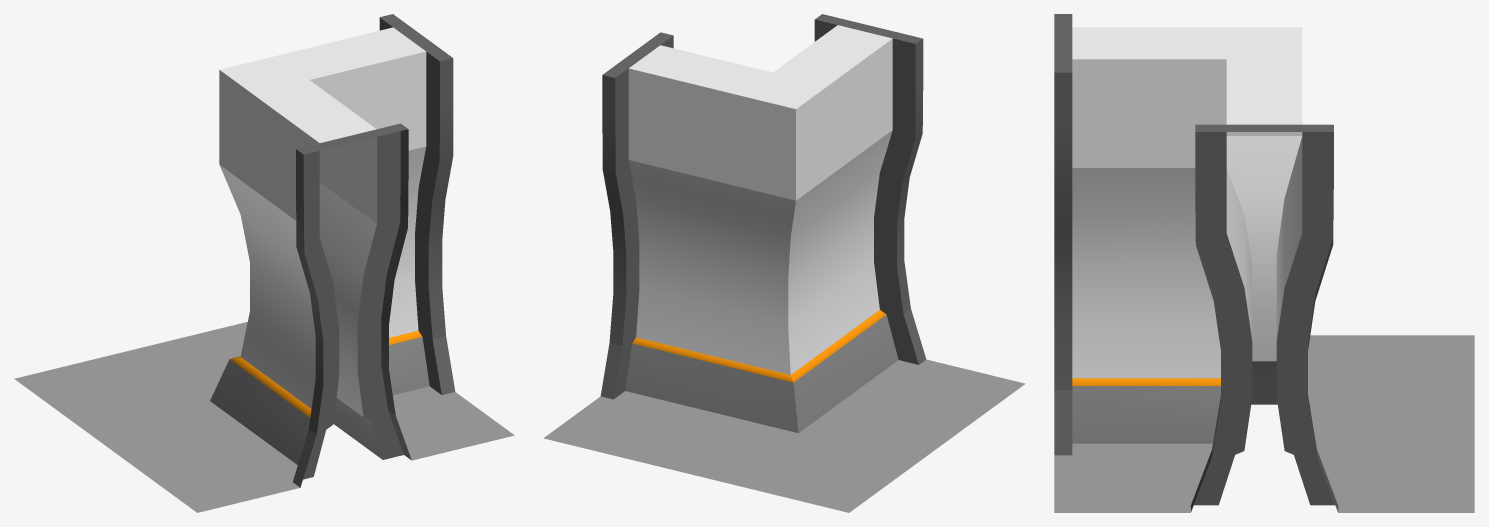
File: SM_InteriorCornerWall_01.fbx
3 renders of one model, left to right at view 1: azimuth 30°, elevation 25°; view 2: azimuth 150°, elevation 25°; view 3: azimuth 270°, elevation 25°, orthographic. The views are drawn at different scales.
Parts seen in each view (by area): view 1: SM_InteriorCornerWall_01; view 2: SM_InteriorCornerWall_01; view 3: SM_InteriorCornerWall_01.
Boxes of the visible parts, x1,y1,x2,y2 form: SM_InteriorCornerWall_01: (14,14,514,512); SM_InteriorCornerWall_01: (543,14,1025,512); SM_InteriorCornerWall_01: (1054,14,1474,512).
Size of the model in its own units: 200 by 200 by 200.
1 material, 1 textured.
